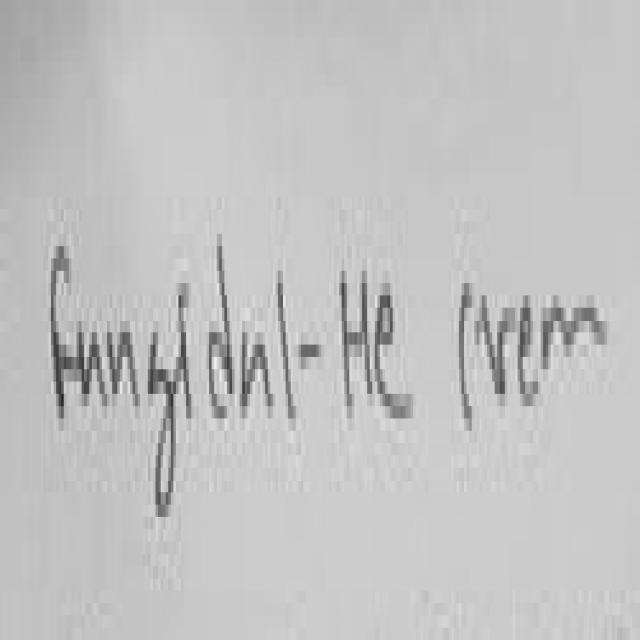C: (372, 239, 418, 452)
F: (40, 190, 77, 447)
H: (334, 206, 374, 471)
a: (238, 272, 274, 468), (540, 231, 562, 397)
c: (448, 248, 480, 454)
d: (202, 186, 238, 466)
e: (513, 248, 540, 449)
g: (147, 264, 176, 534)
i: (174, 215, 198, 452)
l: (274, 190, 300, 471)
m: (564, 231, 612, 433)
n: (104, 268, 140, 441)
r: (479, 247, 516, 443)
u: (76, 288, 106, 432)
